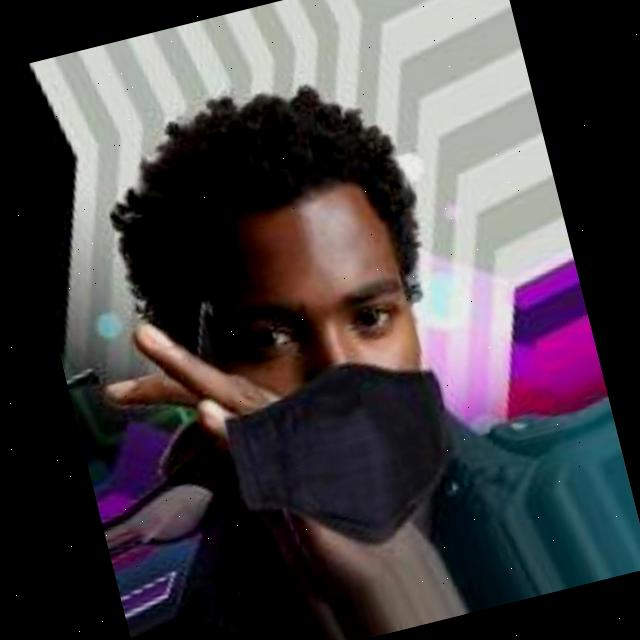suspicion: (127, 91, 489, 568)
